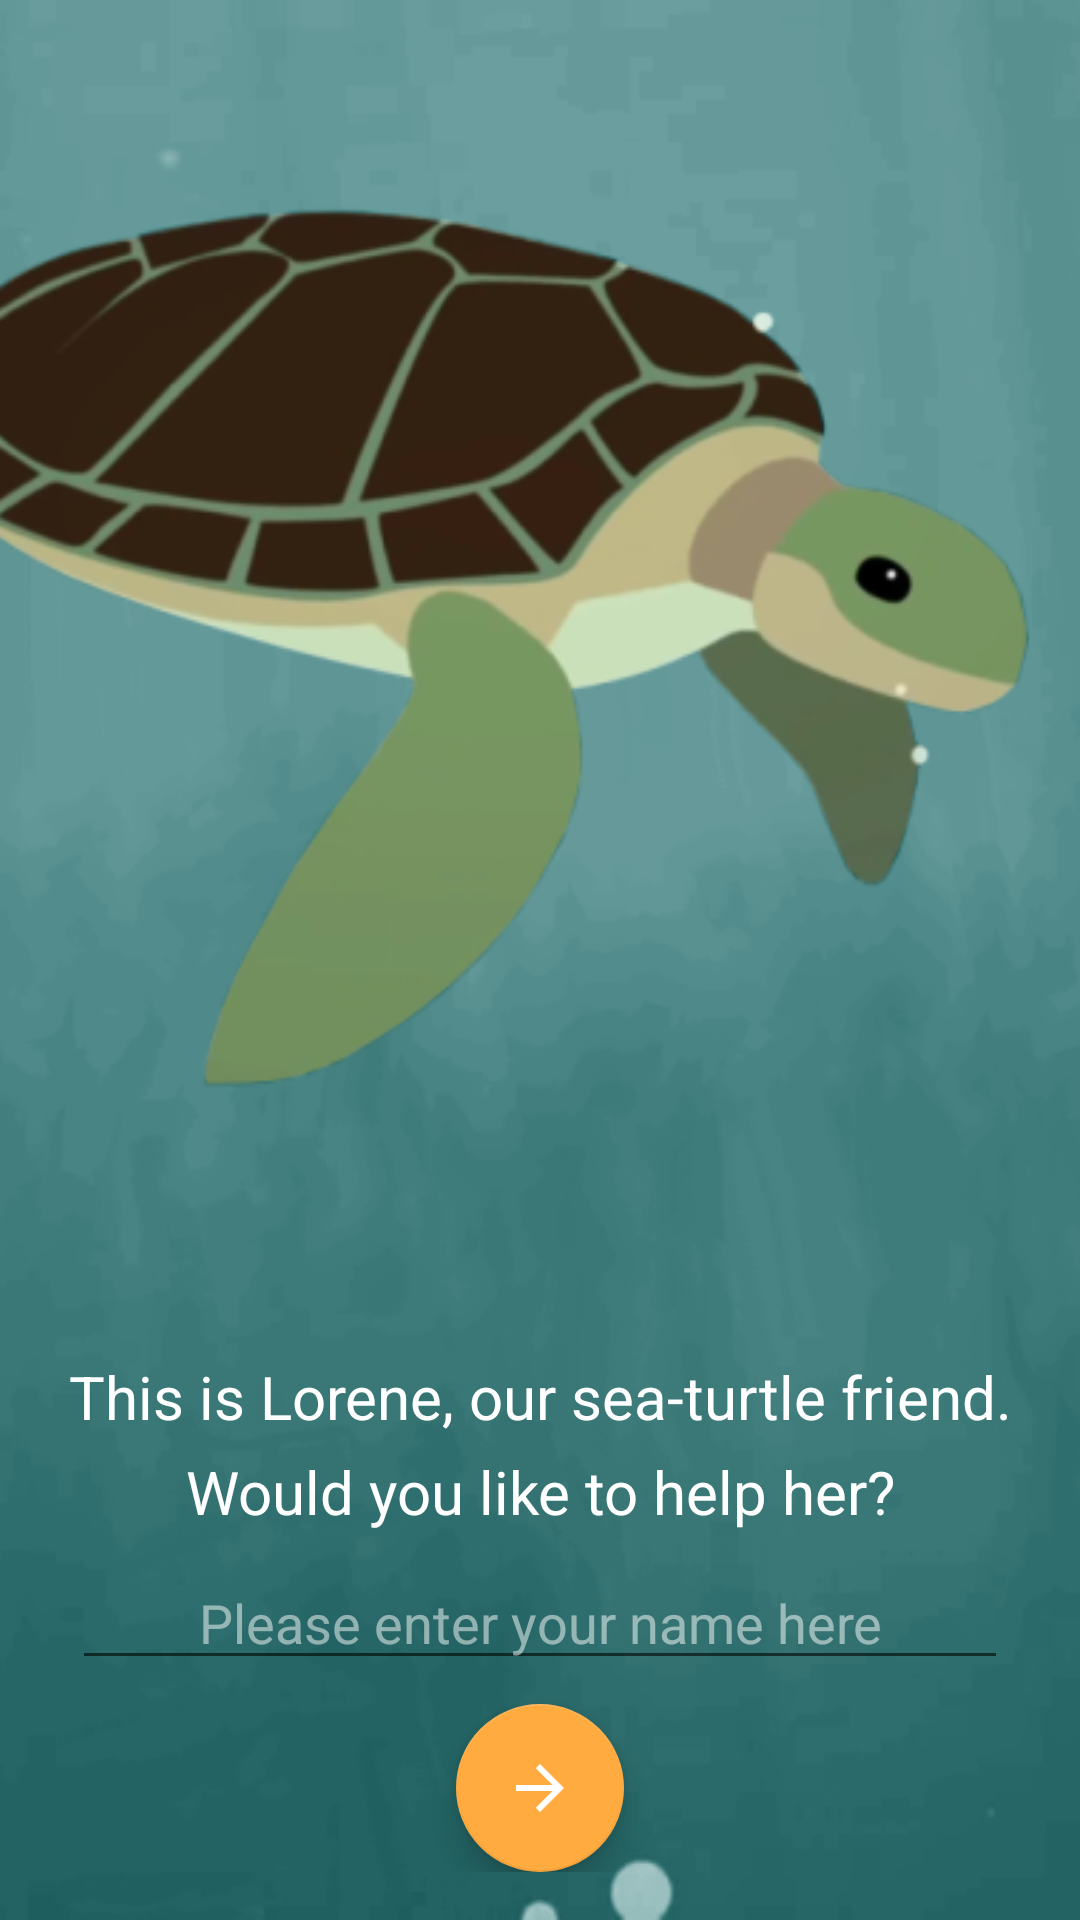

Icon bounding boxes for this 1080 x 1920 phone screenshot, format (x1, y1, x2, y2):
arrow forward: (456, 1704, 624, 1872)
